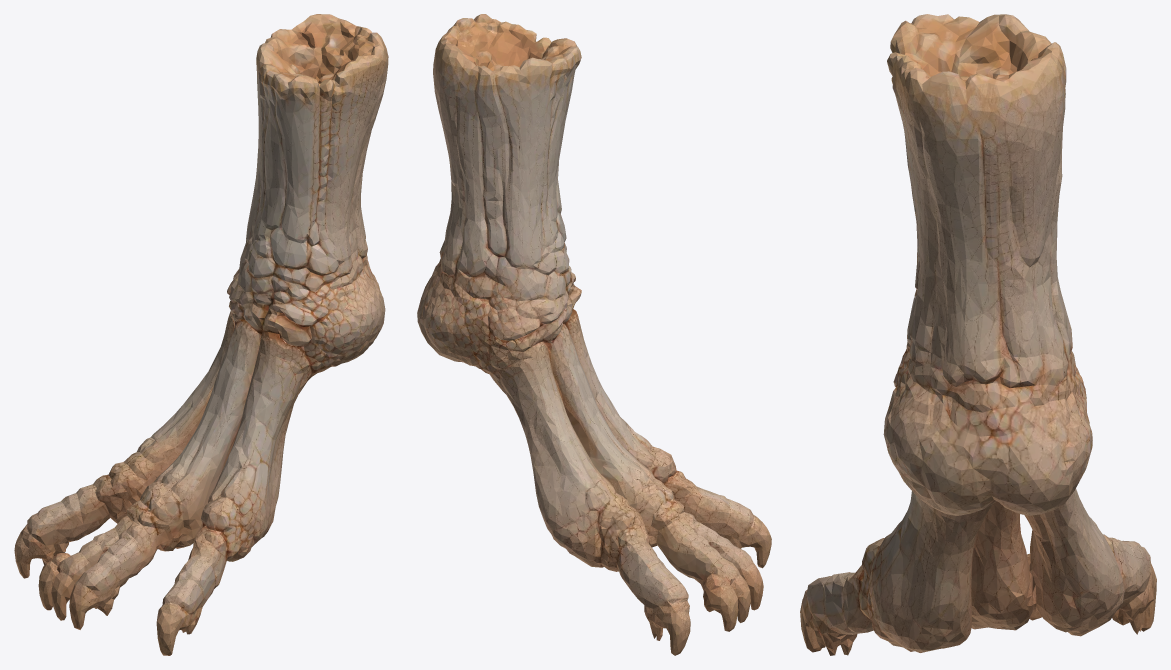
Rendered from foot (54).glb.
3 renders of one model, left to right at view 1: azimuth 30°, elevation 25°; view 2: azimuth 150°, elevation 25°; view 3: azimuth 270°, elevation 25°, orthographic. The views are drawn at different scales.
Parts seen in each view (by area): view 1: Hy21_Mesh.obj; view 2: Hy21_Mesh.obj; view 3: Hy21_Mesh.obj.
Part boxes in pixels (<box>): Hy21_Mesh.obj: <box>14,14,388,655</box>; Hy21_Mesh.obj: <box>417,14,771,655</box>; Hy21_Mesh.obj: <box>800,14,1156,655</box>.
Bounding box in the file's own units: 1.25 × 1.96 × 0.836.
Materials: 1 (1 with a texture image).
